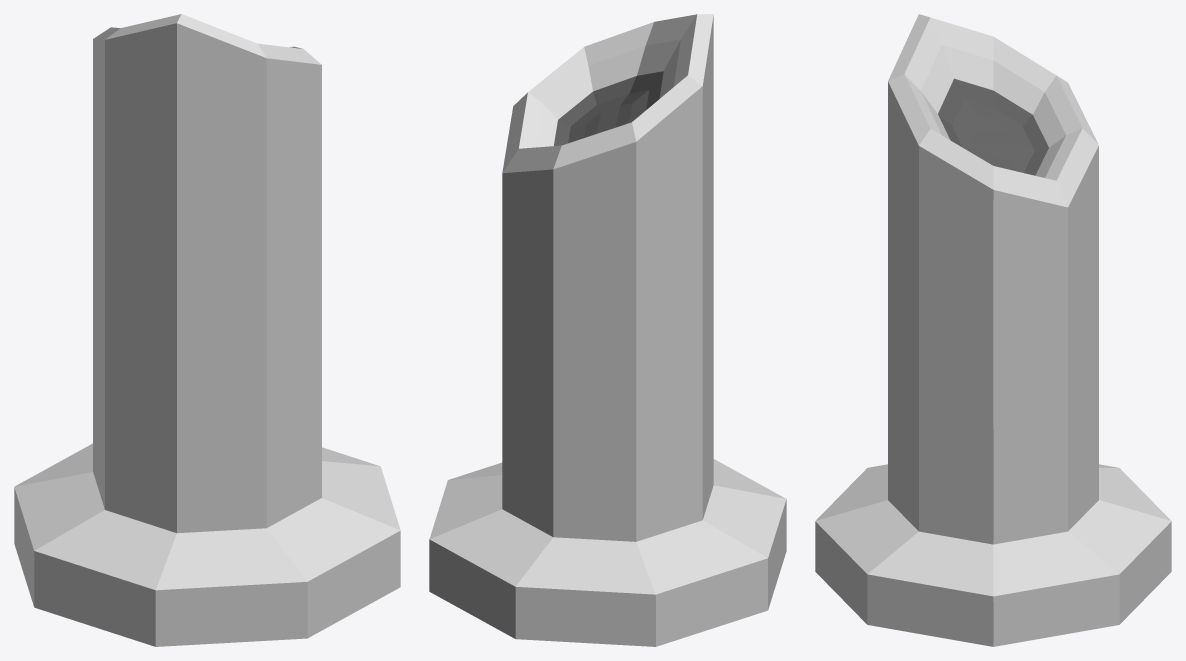
Rendered from circle_pillar_broken.glb.
3 views of the same model, side by side, from view 1: azimuth 30°, elevation 25°; view 2: azimuth 150°, elevation 25°; view 3: azimuth 270°, elevation 25° (orthographic). The views are drawn at different scales.
Visible parts, largest first — view 1: Circle_Pillar_Broken; view 2: Circle_Pillar_Broken; view 3: Circle_Pillar_Broken.
Part boxes in pixels (<box>): Circle_Pillar_Broken: <box>14,14,400,646</box>; Circle_Pillar_Broken: <box>429,14,786,646</box>; Circle_Pillar_Broken: <box>815,14,1171,646</box>.
Bounding box in the file's own units: 4.9 × 8.01 × 4.9.
Materials: 1 (1 with a texture image).
